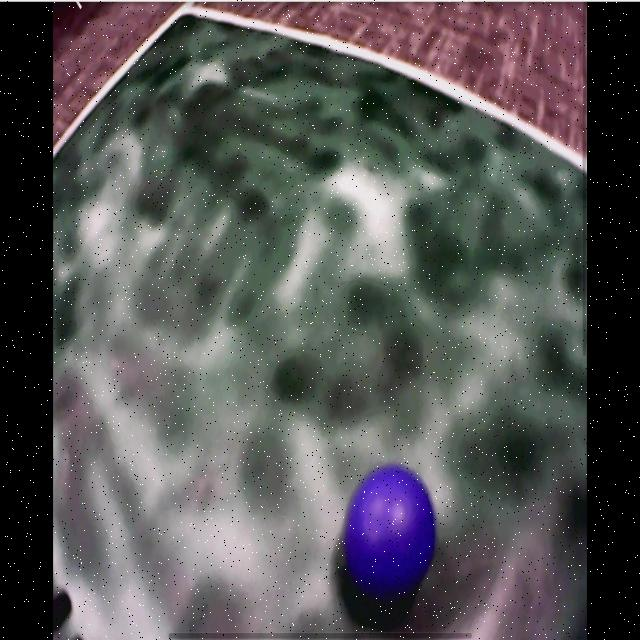ball: (345, 466, 436, 603)
